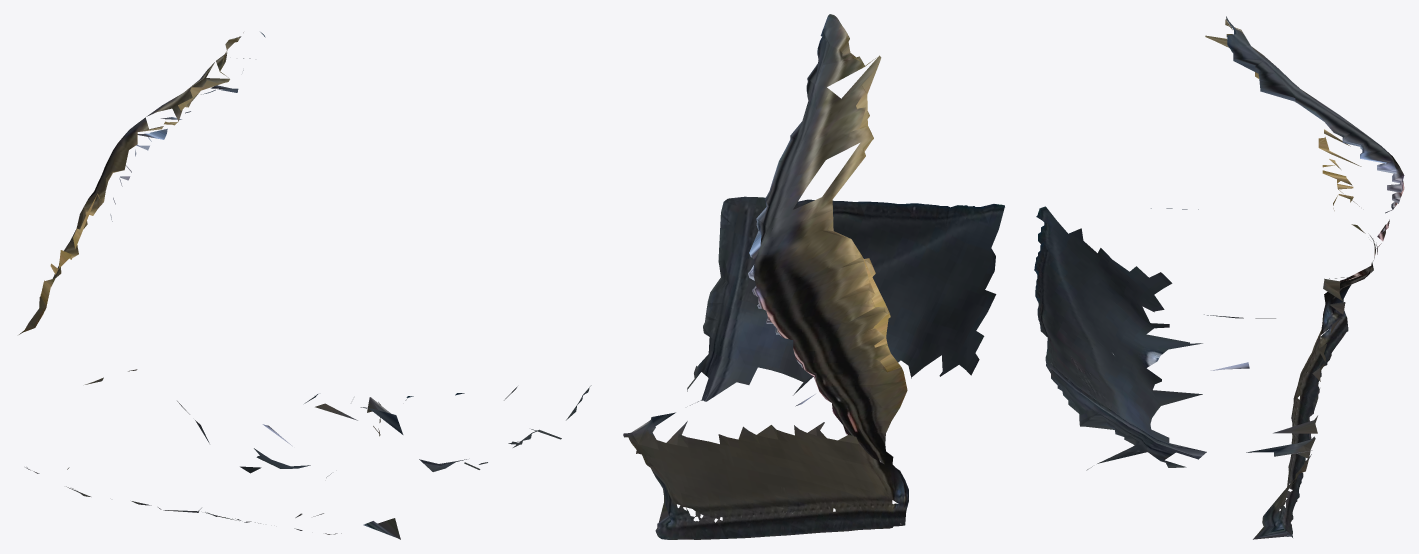
The model's file is observed-surface.glb.
3 views of the same model, side by side, from view 1: azimuth 30°, elevation 25°; view 2: azimuth 150°, elevation 25°; view 3: azimuth 270°, elevation 25° (orthographic). The views are drawn at different scales.
Parts seen in each view (by area): view 1: geometry_0; view 2: geometry_0; view 3: geometry_0.
Boxes of the visible parts, x1=… form: geometry_0: x1=19, y1=32, x2=591, y2=539; geometry_0: x1=623, y1=14, x2=1004, y2=539; geometry_0: x1=1034, y1=16, x2=1404, y2=539.
Bounding box in the file's own units: 0.4779 × 0.6887 × 0.4939.
Materials: 1 (1 with a texture image).
